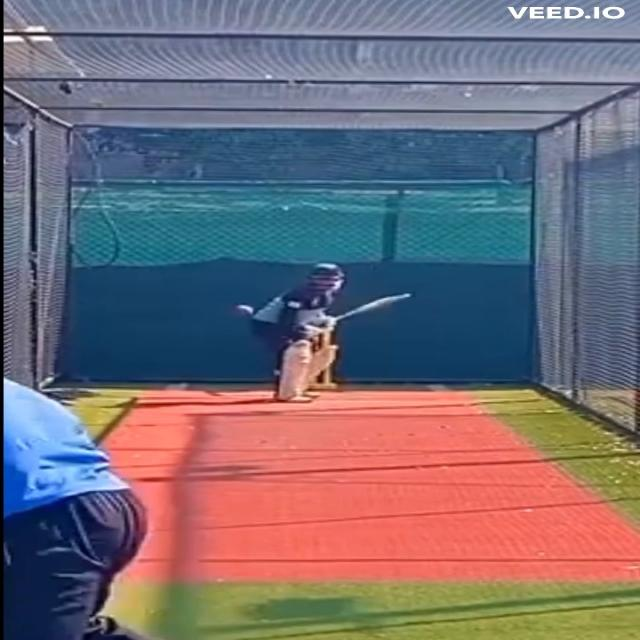ball: (227, 303, 261, 321)
